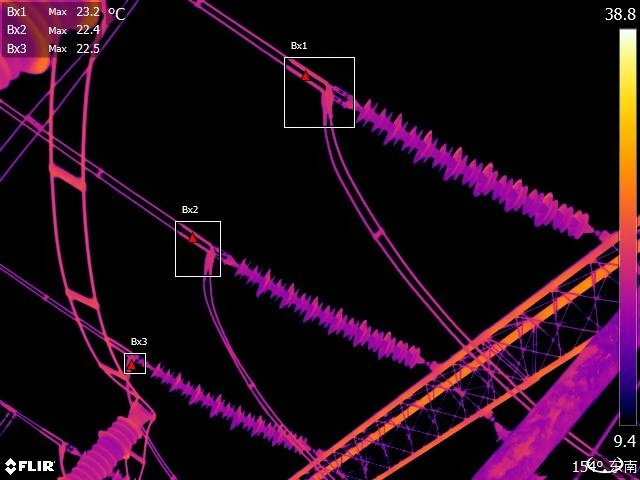clamp: (315, 72, 342, 121), (199, 241, 217, 274)
insulator: (358, 101, 599, 245), (226, 253, 427, 369), (150, 358, 311, 456)
